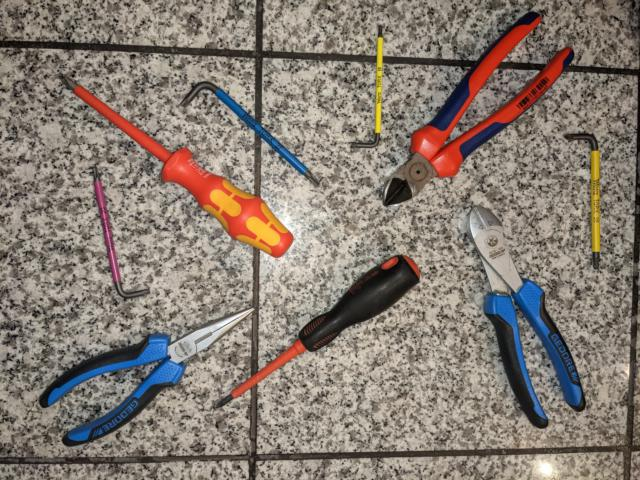Inbusschlüssel: (178, 78, 322, 191), (88, 162, 155, 303), (561, 130, 604, 273), (347, 21, 388, 150)
Schraubendreher: (55, 68, 297, 261), (212, 248, 427, 412)
Seitenschneider: (378, 7, 579, 210), (462, 201, 591, 432)
Zange: (36, 304, 262, 452)
